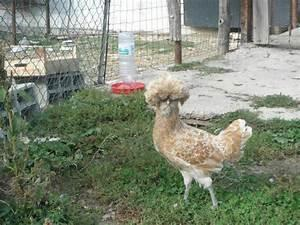hen: (142, 73, 253, 210)
